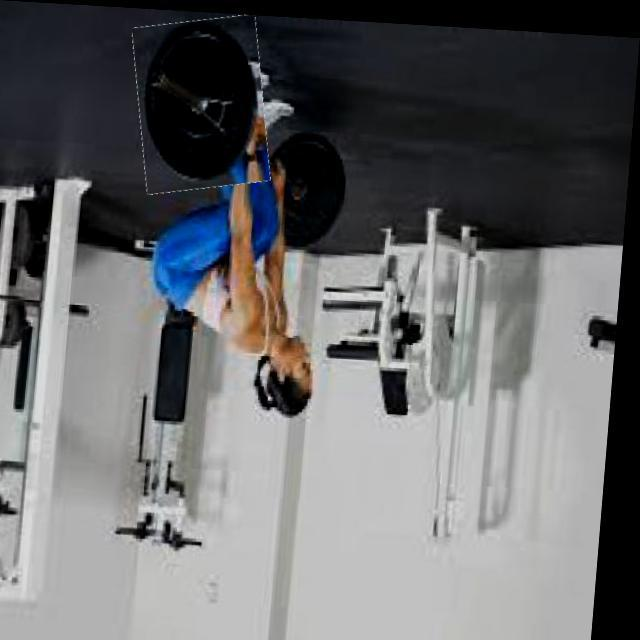barbell: (130, 12, 277, 195)
